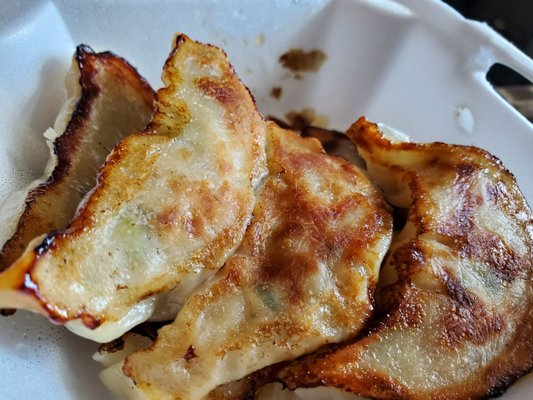sandwich: (49, 105, 533, 400)
